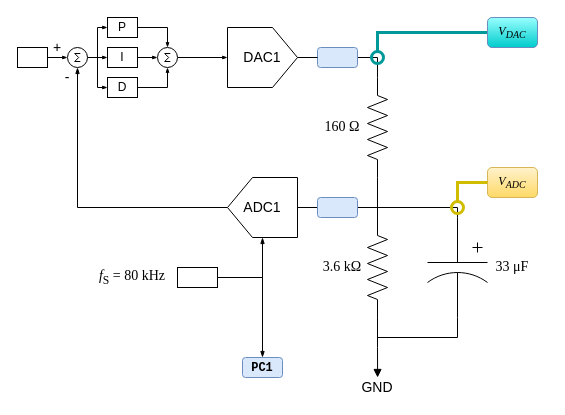
Image size: 565x415. Some labels were removed from this diagram. The shapes that lost their labels are listed below. From the top down, each one's box as (x1, y1, x2, y2) in pixels, then its label:
(16, 46, 48, 68): Vout
(316, 46, 358, 68): PA4
(316, 196, 358, 218): PA0
(176, 266, 218, 288): TIM1
